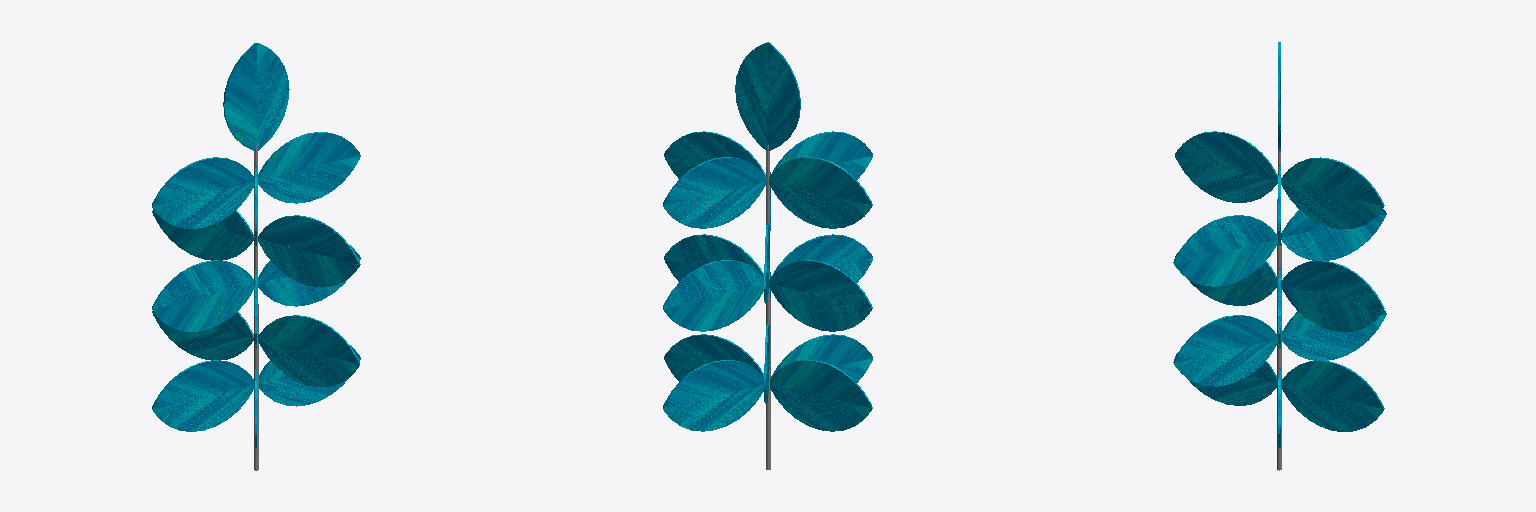
The picture shows the model from 3 angles: view 1: azimuth 30°, elevation 25°; view 2: azimuth 150°, elevation 25°; view 3: azimuth 270°, elevation 25°; orthographic projection.
Parts seen in each view (by area): view 1: Cylinder059, Cylinder053, Cylinder050, Cylinder051, Cylinder052, Cylinder057, Cylinder058, Cylinder065, Cylinder066, Cylinder060, Cylinder061, Cone003; view 2: Cylinder062, Cylinder051, Cylinder050, Cylinder052, Cylinder063, Cylinder053, Cylinder064, Cylinder055, Cylinder054, Cylinder056, Cylinder059, Cylinder061 (+2 smaller); view 3: Cylinder058, Cylinder057, Cylinder054, Cylinder064, Cylinder062, Cylinder063, Cylinder065, Cylinder066, Cylinder056, Cylinder055, Cone003.
Boxes of the visible parts, x1=… form: Cylinder059: x1=258, y1=132, x2=360, y2=203; Cylinder053: x1=223, y1=43, x2=289, y2=150; Cylinder050: x1=152, y1=157, x2=253, y2=228; Cylinder051: x1=152, y1=260, x2=253, y2=331; Cylinder052: x1=152, y1=360, x2=253, y2=431; Cylinder057: x1=258, y1=215, x2=360, y2=287; Cylinder058: x1=258, y1=315, x2=359, y2=386; Cylinder065: x1=152, y1=209, x2=253, y2=260; Cylinder066: x1=152, y1=311, x2=253, y2=360; Cylinder060: x1=258, y1=245, x2=360, y2=306; Cylinder061: x1=259, y1=345, x2=360, y2=406; Cone003: x1=254, y1=145, x2=258, y2=470; Cylinder062: x1=663, y1=157, x2=766, y2=228; Cylinder051: x1=769, y1=260, x2=872, y2=331; Cylinder050: x1=769, y1=157, x2=872, y2=228; Cylinder052: x1=770, y1=360, x2=872, y2=431; Cylinder063: x1=663, y1=260, x2=763, y2=331; Cylinder053: x1=735, y1=42, x2=800, y2=150; Cylinder064: x1=663, y1=360, x2=763, y2=431; Cylinder055: x1=770, y1=234, x2=872, y2=282; Cylinder054: x1=770, y1=131, x2=872, y2=179; Cylinder056: x1=771, y1=334, x2=872, y2=382; Cylinder059: x1=664, y1=131, x2=766, y2=178; Cylinder061: x1=664, y1=334, x2=763, y2=381; Cylinder058: x1=1173, y1=315, x2=1277, y2=386; Cylinder057: x1=1173, y1=215, x2=1277, y2=286; Cylinder054: x1=1175, y1=131, x2=1277, y2=202; Cylinder064: x1=1281, y1=360, x2=1384, y2=431; Cylinder062: x1=1281, y1=157, x2=1384, y2=228; Cylinder063: x1=1281, y1=260, x2=1384, y2=331; Cylinder065: x1=1281, y1=209, x2=1386, y2=260; Cylinder066: x1=1282, y1=310, x2=1386, y2=360; Cylinder056: x1=1175, y1=353, x2=1276, y2=405; Cylinder055: x1=1175, y1=252, x2=1276, y2=305; Cone003: x1=1277, y1=152, x2=1281, y2=470.
Bounding box in the file's own units: 26.89 × 52.63 × 23.88.
Materials: 2 (1 with a texture image).